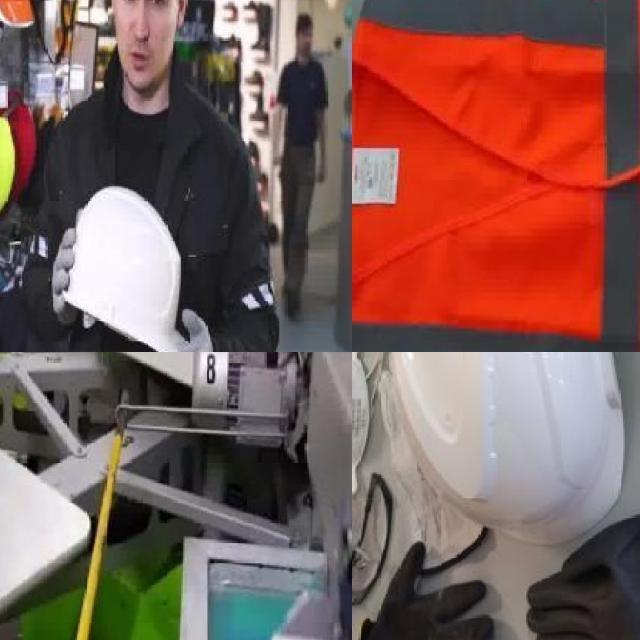apron: (51, 205, 78, 323), (171, 304, 214, 352)
